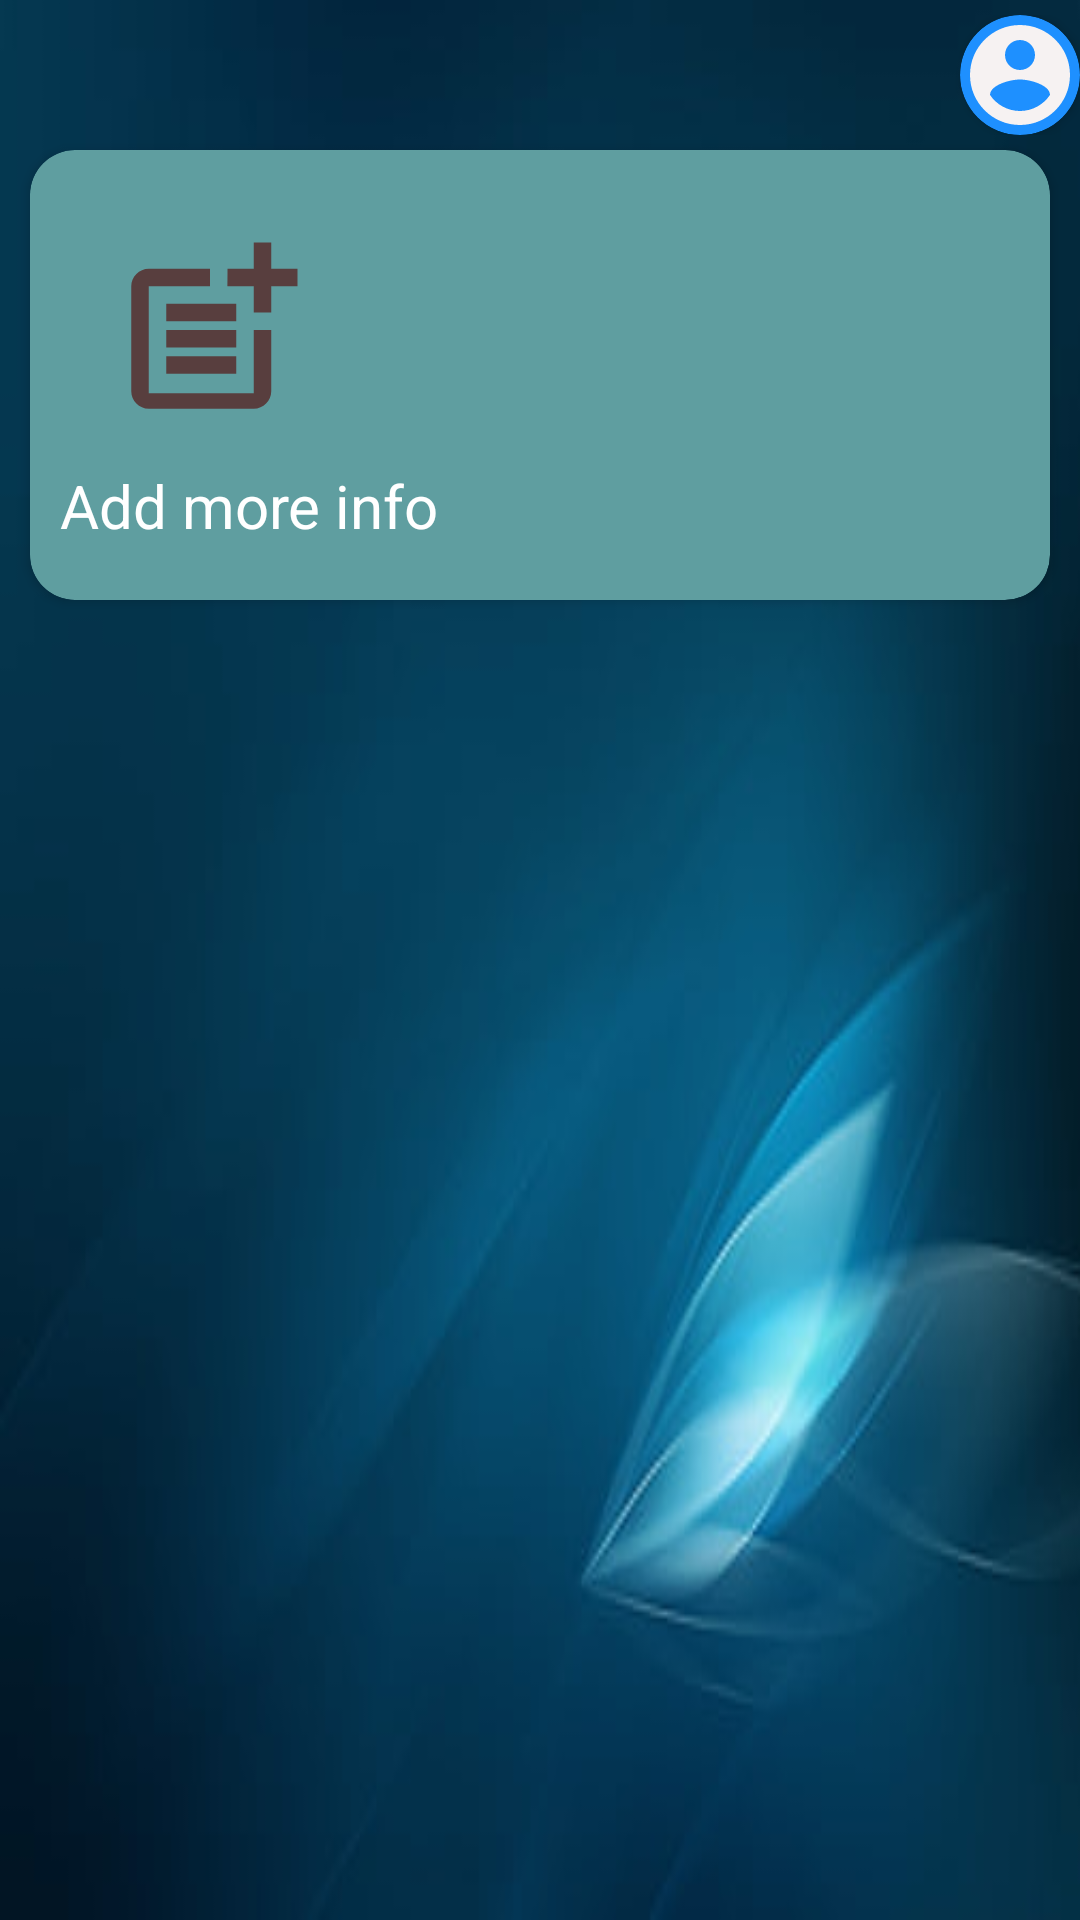

Icon click points for this 1080*1920 phone screenshot, format (x,y):
account: (1020,75)
post add: (214,325)
